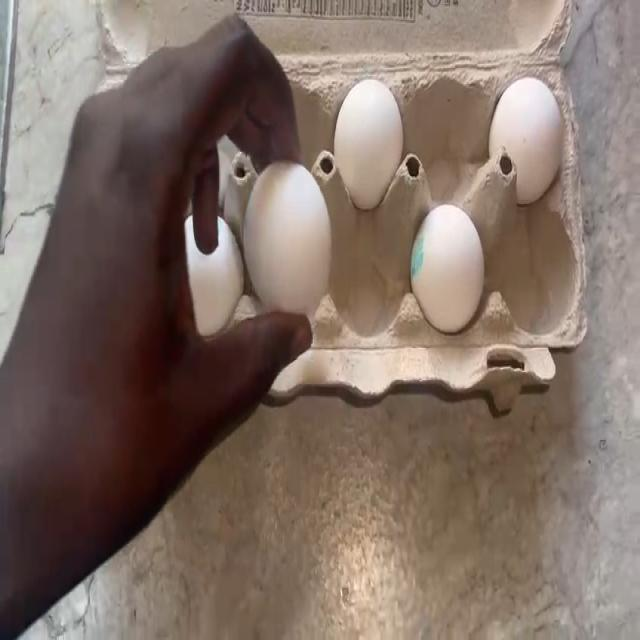Egg: (248, 166, 338, 289), (334, 61, 406, 199), (496, 86, 573, 175), (426, 210, 491, 310), (192, 248, 226, 309)
